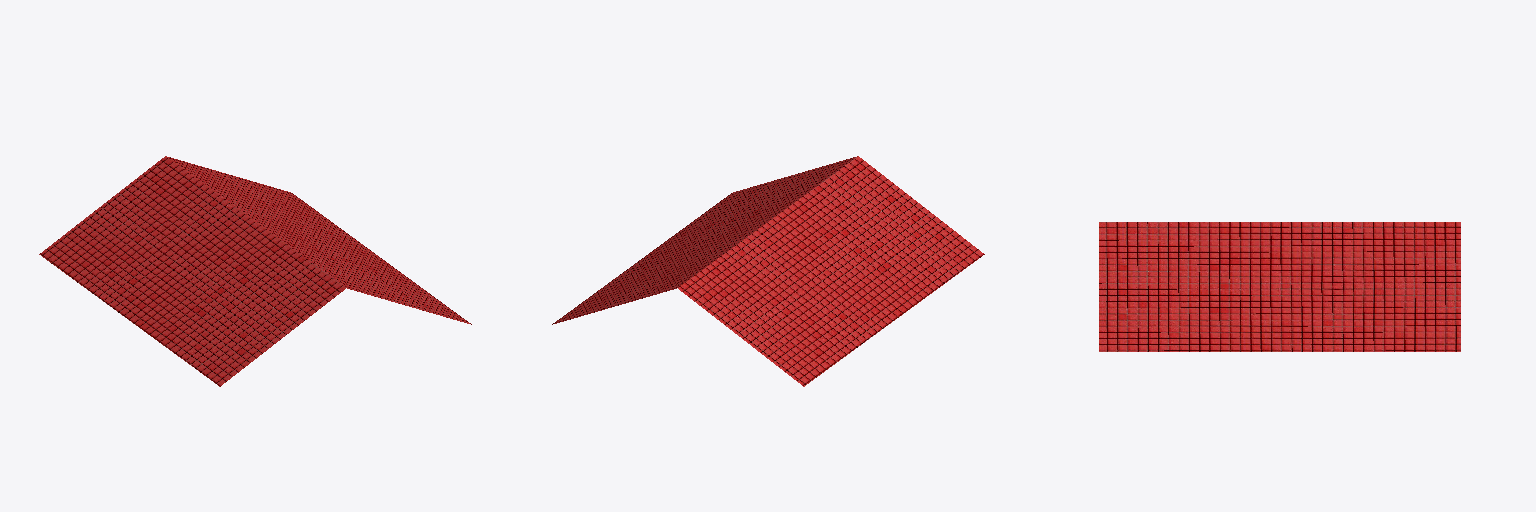
The picture shows the model from 3 angles: view 1: azimuth 30°, elevation 25°; view 2: azimuth 150°, elevation 25°; view 3: azimuth 270°, elevation 25°; orthographic projection.
Parts seen in each view (by area): view 1: roof_Cube.001; view 2: roof_Cube.001; view 3: roof_Cube.001.
Boxes of the visible parts, <box> form: roof_Cube.001: <box>39,156,471,386</box>; roof_Cube.001: <box>552,156,984,386</box>; roof_Cube.001: <box>1099,222,1460,351</box>.
Size of the model in its own units: 13.14 by 3.36 by 16.29.
1 materials, 1 textured.